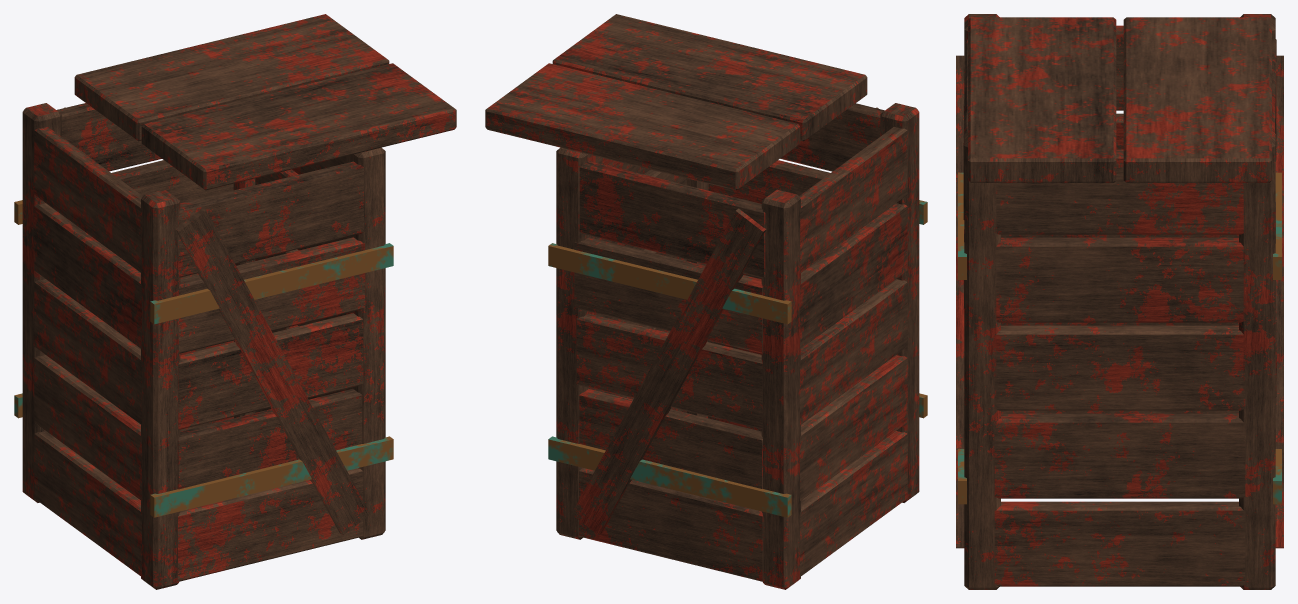
Rendered from Crate_C.glb.
3 renders of one model, left to right at view 1: azimuth 30°, elevation 25°; view 2: azimuth 150°, elevation 25°; view 3: azimuth 270°, elevation 25°, orthographic. The views are drawn at different scales.
Visible parts, largest first — view 1: Crate_C__Timber, Crate_C__Bronze; view 2: Crate_C__Timber, Crate_C__Bronze; view 3: Crate_C__Timber, Crate_C__Bronze.
Part boxes in pixels (box(x1,y1,x2,y2)): Crate_C__Timber: box(22, 14, 456, 589); Crate_C__Bronze: box(14, 200, 393, 517); Crate_C__Timber: box(485, 14, 919, 589); Crate_C__Bronze: box(548, 200, 927, 517); Crate_C__Timber: box(956, 14, 1283, 589); Crate_C__Bronze: box(958, 172, 1281, 504).
Bounding box in the file's own units: 4.5 × 5.7 × 3.58.
2 materials, 2 textured.
